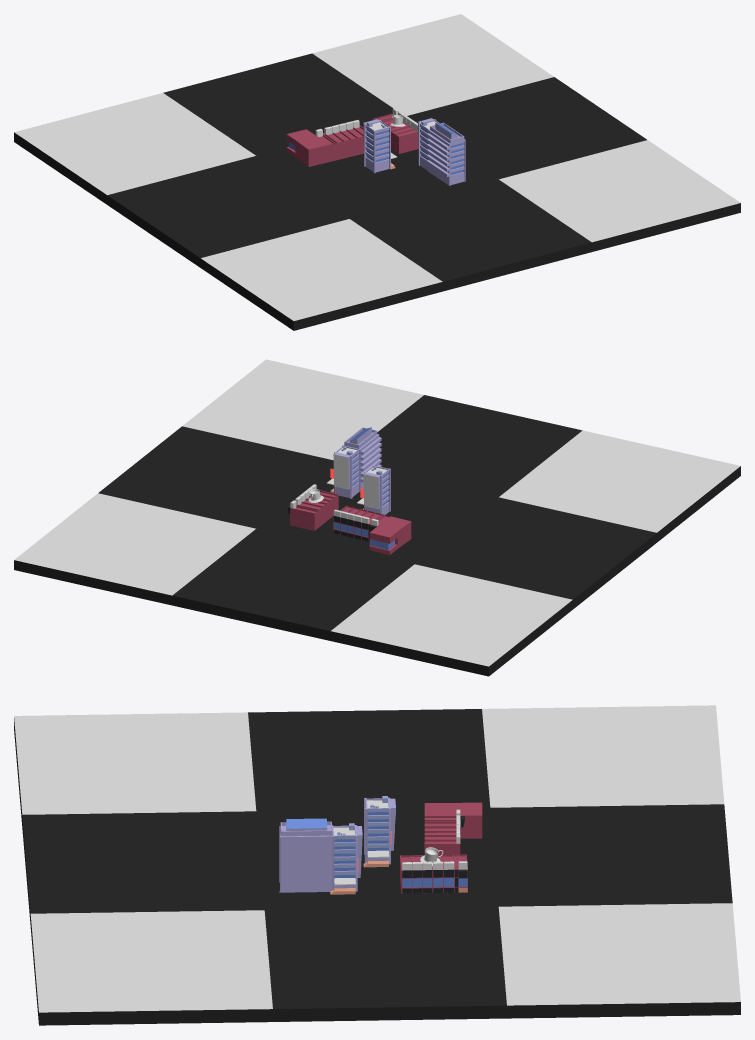
Rendered from building_kit.glb.
3 views of the same model, one above another, from view 1: azimuth 30°, elevation 25°; view 2: azimuth 150°, elevation 25°; view 3: azimuth 270°, elevation 25° (orthographic). The views are drawn at different scales.
Visible parts, largest first — view 1: ground_Material.010_0; view 2: ground_Material.010_0; view 3: ground_Material.010_0.
Boxes of the visible parts, bbox=[...] form: ground_Material.010_0: bbox=[14, 14, 740, 330]; ground_Material.010_0: bbox=[14, 359, 740, 676]; ground_Material.010_0: bbox=[14, 705, 740, 1025].
Bounding box in the file's own units: 83.74 × 10 × 83.74.
Materials: 2 (2 with a texture image).
